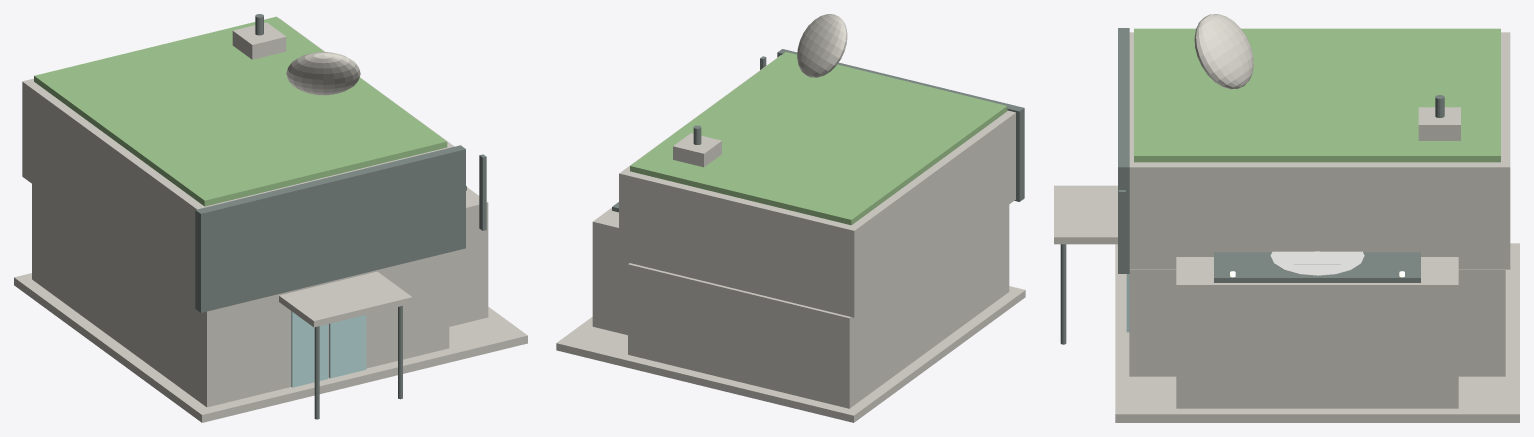
Rendered from ResearchLab.fbx.
3 views of the same model, side by side, from view 1: azimuth 30°, elevation 25°; view 2: azimuth 150°, elevation 25°; view 3: azimuth 270°, elevation 25° (orthographic). The views are drawn at different scales.
Parts seen in each view (by area): view 1: Roof_LivingGreen, Ground_Floor_Core, Upper_Frame_Charcoal, Second_Floor_Volume, Lab_BaseSlab, Entrance_Canopy, Drone_Wing_Structure, Dish_Bowl, ResearchLab_Door_L, ResearchLab_Door_R, Dish_Mount, Upper_Mullion_4 (+1 smaller); view 2: Second_Floor_Volume, Ground_Floor_Core, Roof_LivingGreen, Lab_BaseSlab, Drone_Wing_Structure, Dish_Bowl, Upper_Frame_Charcoal, Dish_Mount; view 3: Roof_LivingGreen, Second_Floor_Volume, Drone_Wing_Structure, Lab_BaseSlab, Ground_Floor_Core, Drone_Pad_Deck, Entrance_Canopy, Dish_Bowl, Upper_Frame_Charcoal, Drone_Ring, Dish_Mount, Canopy_Pillar_R (+1 smaller).
Part boxes in pixels (x1=…): Roof_LivingGreen: x1=34, y1=16, x2=447, y2=206; Ground_Floor_Core: x1=32, y1=184, x2=449, y2=407; Upper_Frame_Charcoal: x1=195, y1=145, x2=465, y2=312; Second_Floor_Volume: x1=22, y1=19, x2=454, y2=302; Lab_BaseSlab: x1=14, y1=273, x2=527, y2=422; Entrance_Canopy: x1=279, y1=271, x2=412, y2=327; Drone_Wing_Structure: x1=449, y1=187, x2=488, y2=326; Dish_Bowl: x1=286, y1=52, x2=360, y2=95; ResearchLab_Door_L: x1=291, y1=311, x2=328, y2=387; ResearchLab_Door_R: x1=329, y1=315, x2=366, y2=378; Dish_Mount: x1=232, y1=22, x2=286, y2=59; Upper_Mullion_4: x1=479, y1=154, x2=486, y2=230; Second_Floor_Volume: x1=619, y1=55, x2=1015, y2=317; Ground_Floor_Core: x1=628, y1=205, x2=1009, y2=408; Roof_LivingGreen: x1=630, y1=52, x2=1007, y2=225; Lab_BaseSlab: x1=556, y1=286, x2=1025, y2=422; Drone_Wing_Structure: x1=592, y1=208, x2=629, y2=335; Dish_Bowl: x1=797, y1=14, x2=847, y2=77; Upper_Frame_Charcoal: x1=777, y1=49, x2=1024, y2=201; Dish_Mount: x1=673, y1=133, x2=721, y2=167; Roof_LivingGreen: x1=1134, y1=28, x2=1500, y2=162; Second_Floor_Volume: x1=1129, y1=32, x2=1510, y2=269; Drone_Wing_Structure: x1=1176, y1=257, x2=1458, y2=408; Lab_BaseSlab: x1=1115, y1=243, x2=1519, y2=422; Ground_Floor_Core: x1=1129, y1=269, x2=1505, y2=376; Drone_Pad_Deck: x1=1214, y1=252, x2=1420, y2=282; Entrance_Canopy: x1=1054, y1=185, x2=1117, y2=244; Dish_Bowl: x1=1194, y1=14, x2=1253, y2=89; Upper_Frame_Charcoal: x1=1118, y1=28, x2=1129, y2=273; Drone_Ring: x1=1270, y1=251, x2=1364, y2=275; Dish_Mount: x1=1418, y1=107, x2=1460, y2=140; Canopy_Pillar_R: x1=1060, y1=244, x2=1066, y2=344.
Size of the model in its own units: 860 by 761 by 990.
